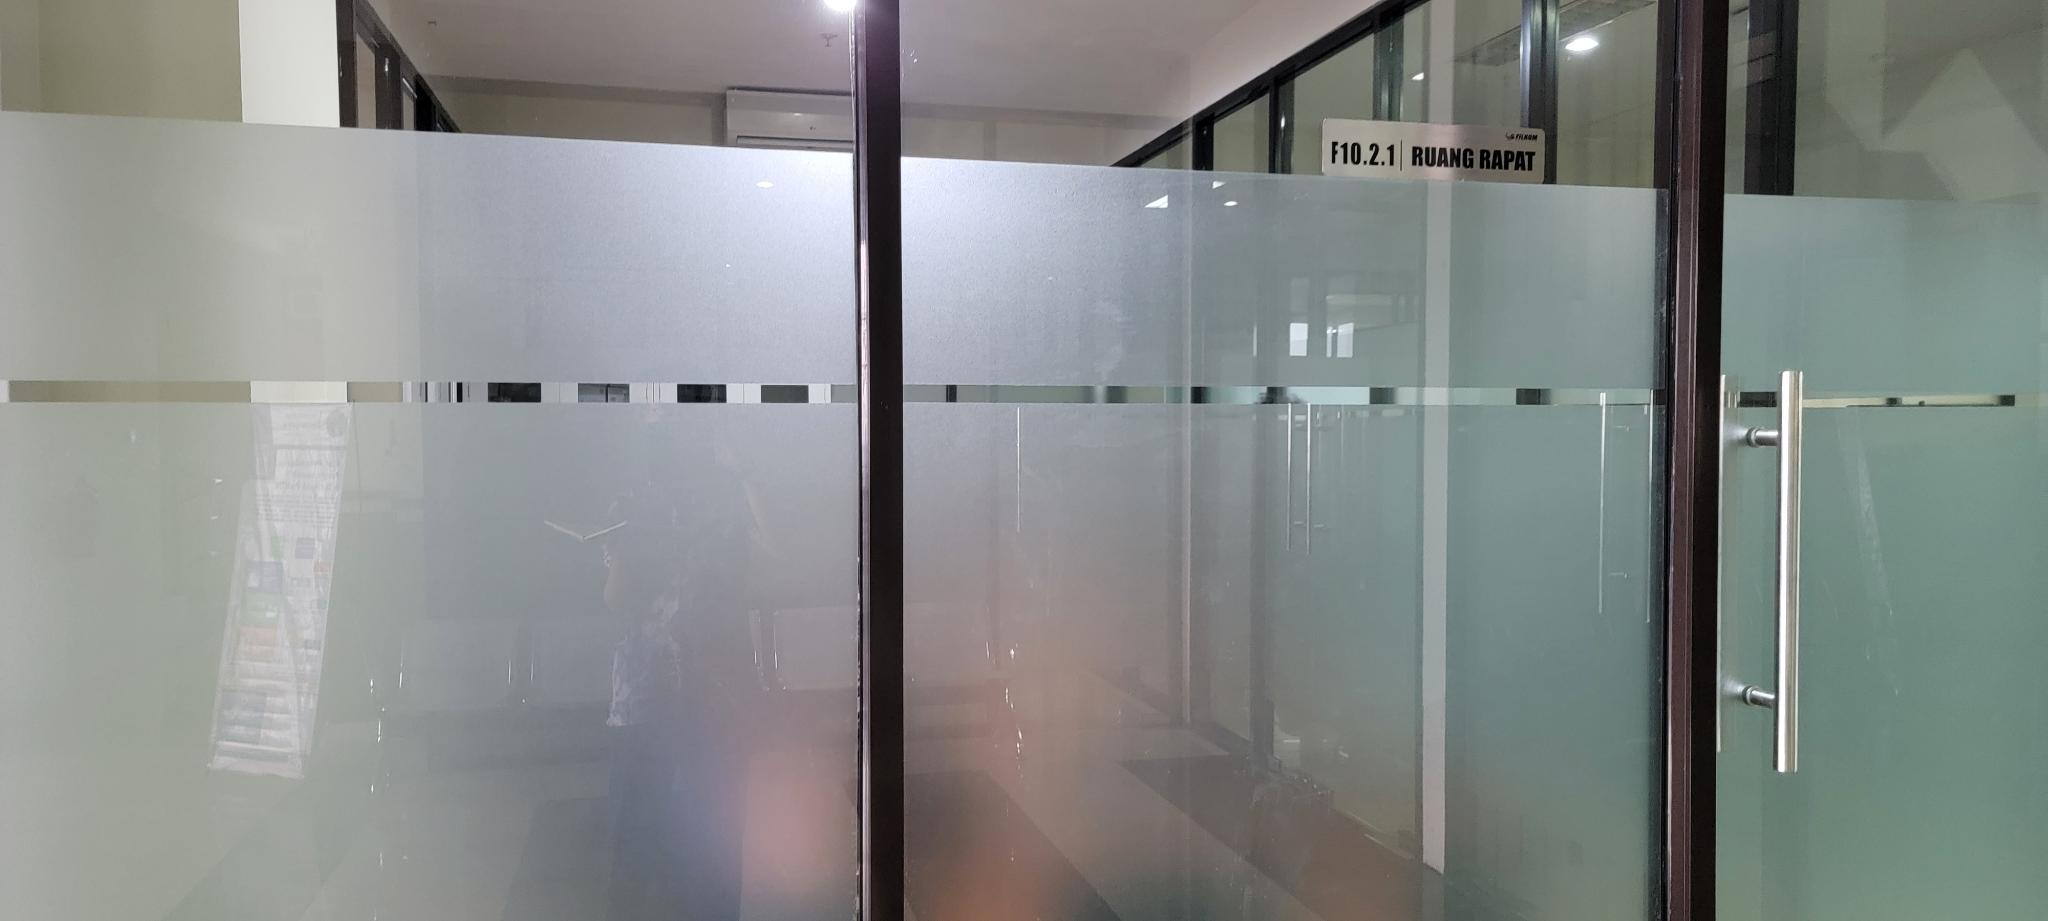plate: (1321, 115, 1544, 184)
